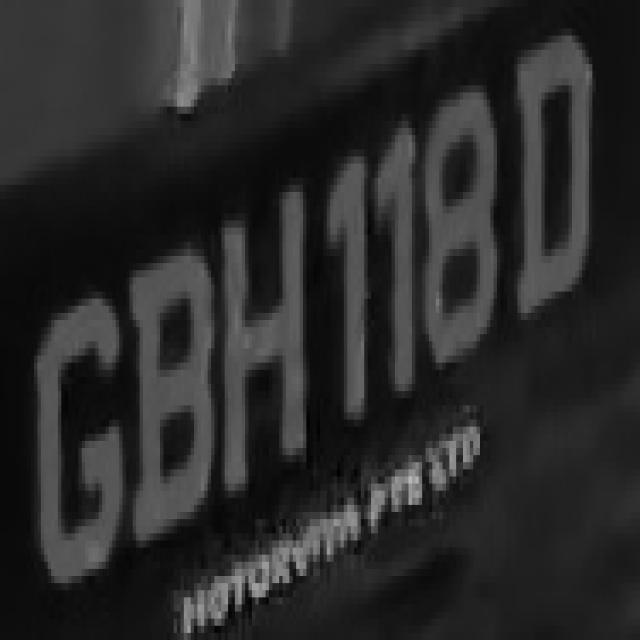1: (316, 128, 374, 434), (381, 79, 426, 412)
8: (426, 85, 500, 377)
B: (126, 213, 214, 548)
D: (500, 14, 596, 327)
G: (24, 277, 129, 583)
H: (214, 185, 310, 505)
